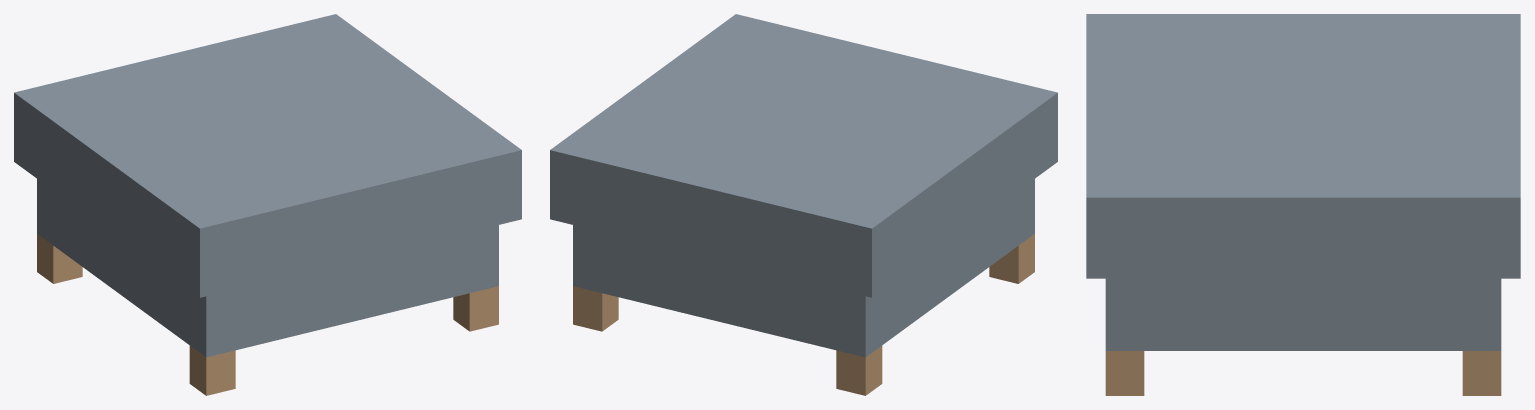
Rendered from sofa-ottoman.glb.
3 renders of one model, left to right at view 1: azimuth 30°, elevation 25°; view 2: azimuth 150°, elevation 25°; view 3: azimuth 270°, elevation 25°, orthographic. The views are drawn at different scales.
Parts seen in each view (by area): view 1: sofa-ottoman; view 2: sofa-ottoman; view 3: sofa-ottoman.
Part boxes in pixels (bbox=[...]): sofa-ottoman: bbox=[14, 14, 521, 395]; sofa-ottoman: bbox=[550, 14, 1057, 395]; sofa-ottoman: bbox=[1086, 14, 1520, 395].
Size of the model in its own units: 0.8 by 0.42 by 0.8.
